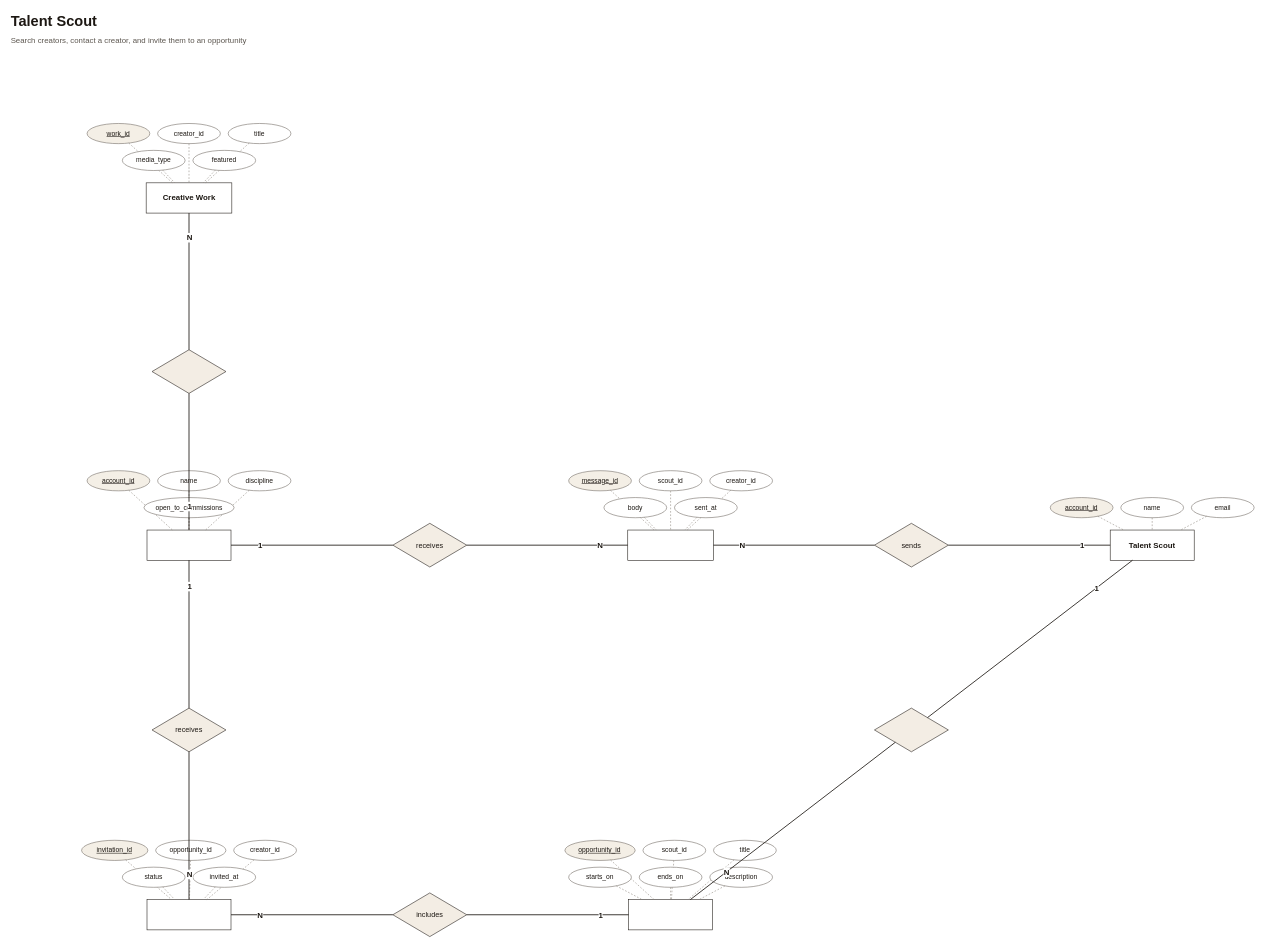
Some shapes in this 1264 by 946 pixel diagram are drawn without their labels. Each missing label, with the box of its shape:
creates: (874, 708, 948, 752)
Creator: (146, 529, 231, 560)
Invitation: (146, 899, 231, 930)
Opportunity: (628, 899, 713, 930)
presents: (151, 349, 226, 393)
Scout Message: (627, 529, 713, 560)
